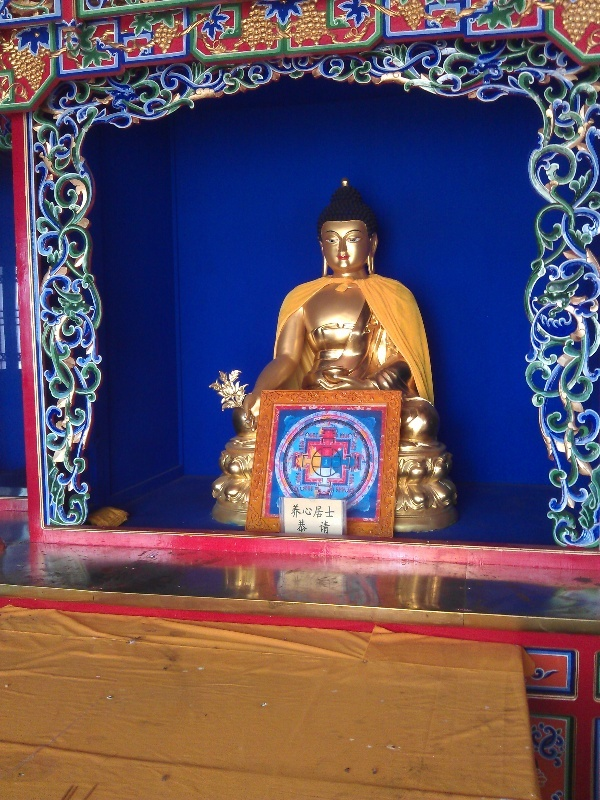text: (305, 519, 320, 535), (305, 504, 320, 519), (321, 504, 336, 519), (291, 504, 304, 519), (321, 519, 332, 535), (297, 519, 304, 535)
